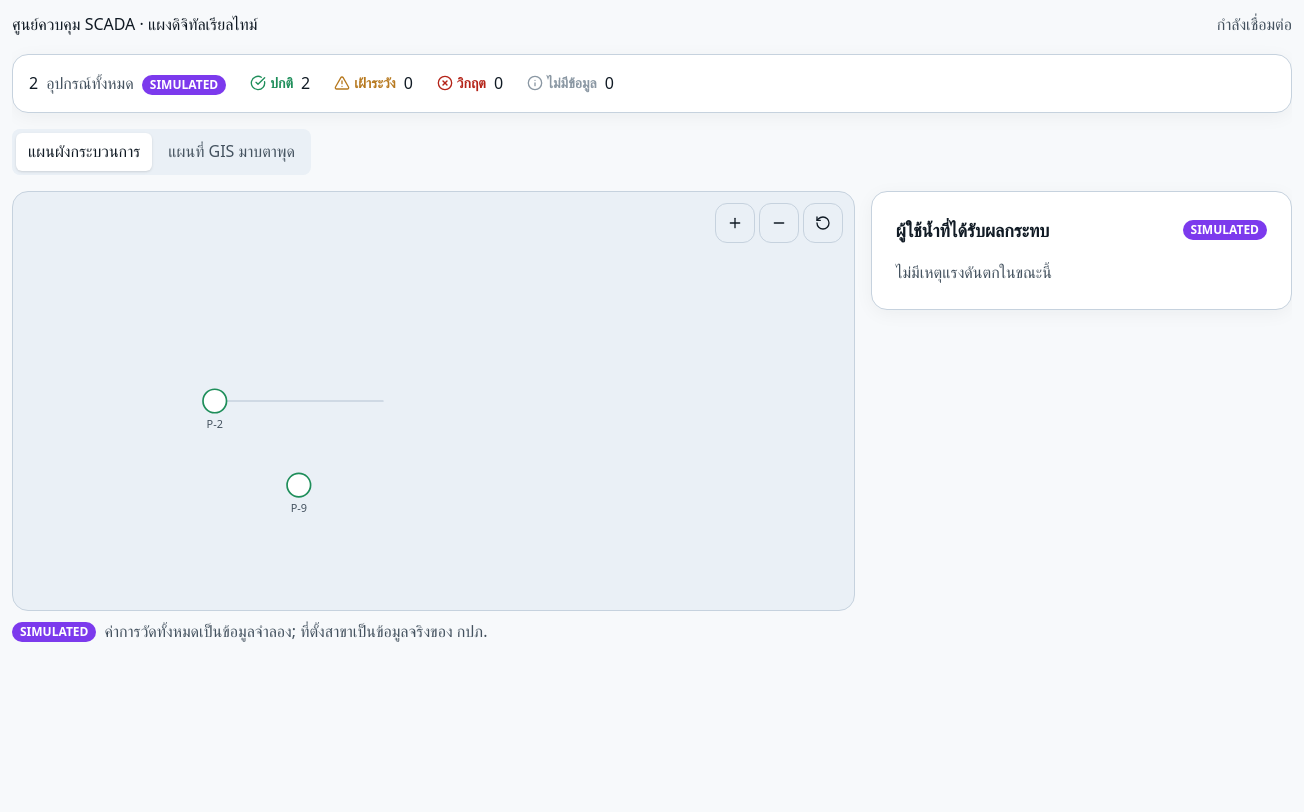
Test: OperationsTwinScreen GIS view › shows an explicit unavailable state on 503 — a broken bundle is reported broken
expect the element showing "แผนผังกระบวนการ แผนที่ GIS มาบตาพุด" is shown: met, box left=12, top=129, right=311, bottom=175
Step 1. Click the tab "แผนที่ GIS มาบตาพุด" → point(232, 152), box left=156, top=133, right=307, bottom=171
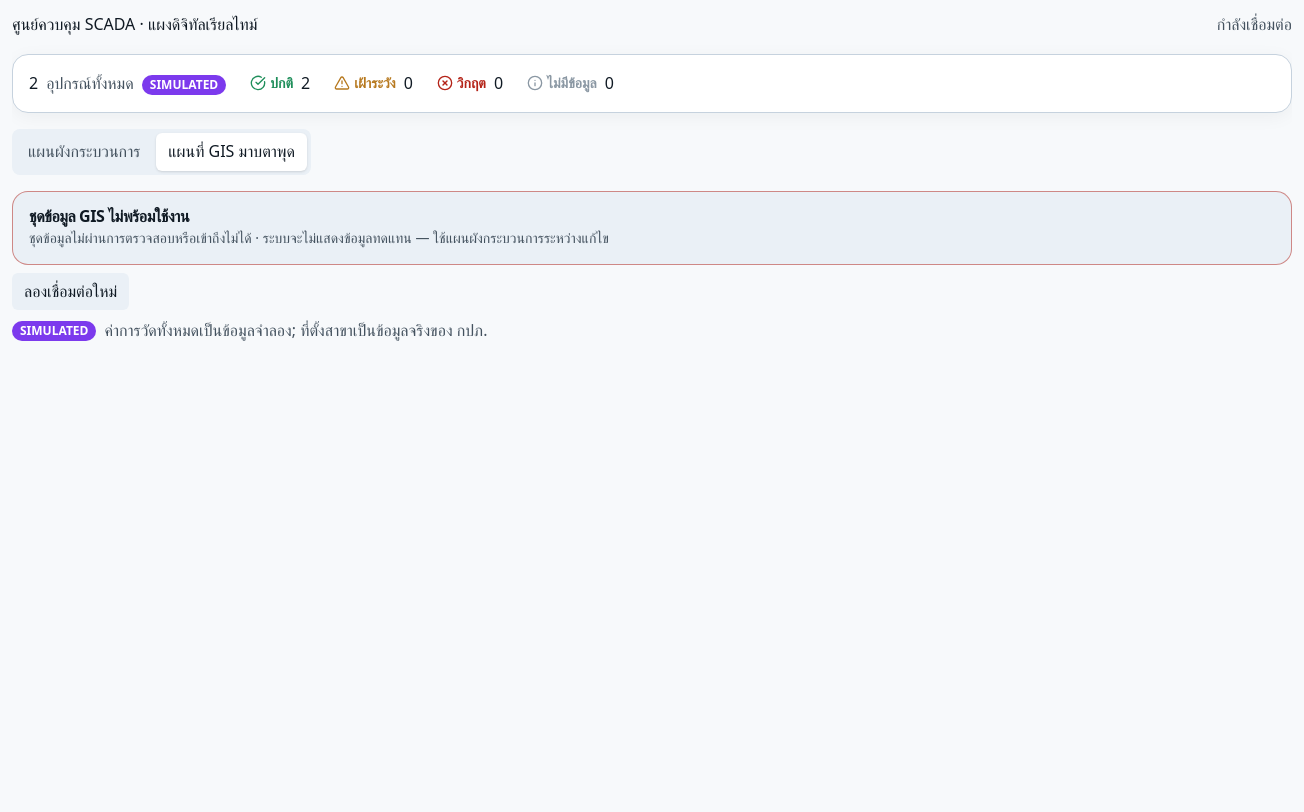
expect the element with test id "gis-availability" shows "ไม่พร้อมใช้งาน": met, box left=29, top=205, right=189, bottom=227
